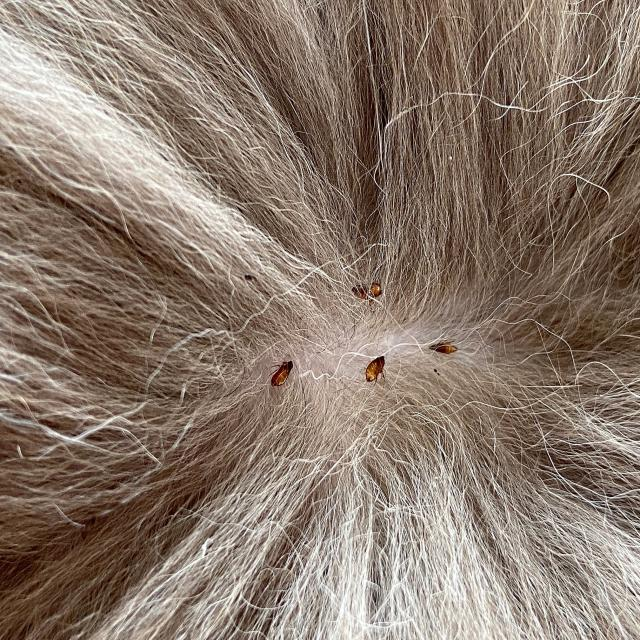di ung bo chet: (220, 248, 508, 460)
